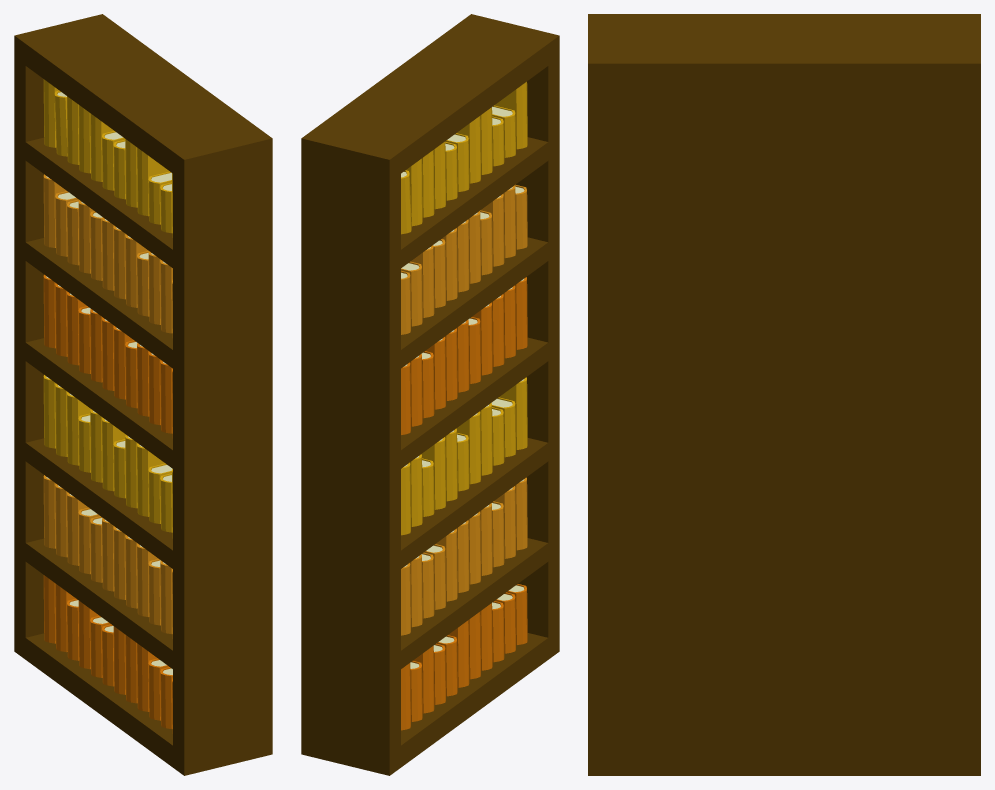
The model's file is lowpoly_bookCase_full.fbx.
3 views of the same model, side by side, from view 1: azimuth 30°, elevation 25°; view 2: azimuth 150°, elevation 25°; view 3: azimuth 270°, elevation 25° (orthographic). The views are drawn at different scales.
Parts seen in each view (by area): view 1: bookcase, cover.007; view 2: bookcase, cover.007; view 3: bookcase.
Part boxes in pixels (x1,y1,x2,y2): bookcase: (14,14,272,775); cover.007: (43,79,172,733); bookcase: (301,14,559,775); cover.007: (401,81,527,730); bookcase: (588,14,980,775).
Bounding box in the file's own units: 30 × 200 × 100.
